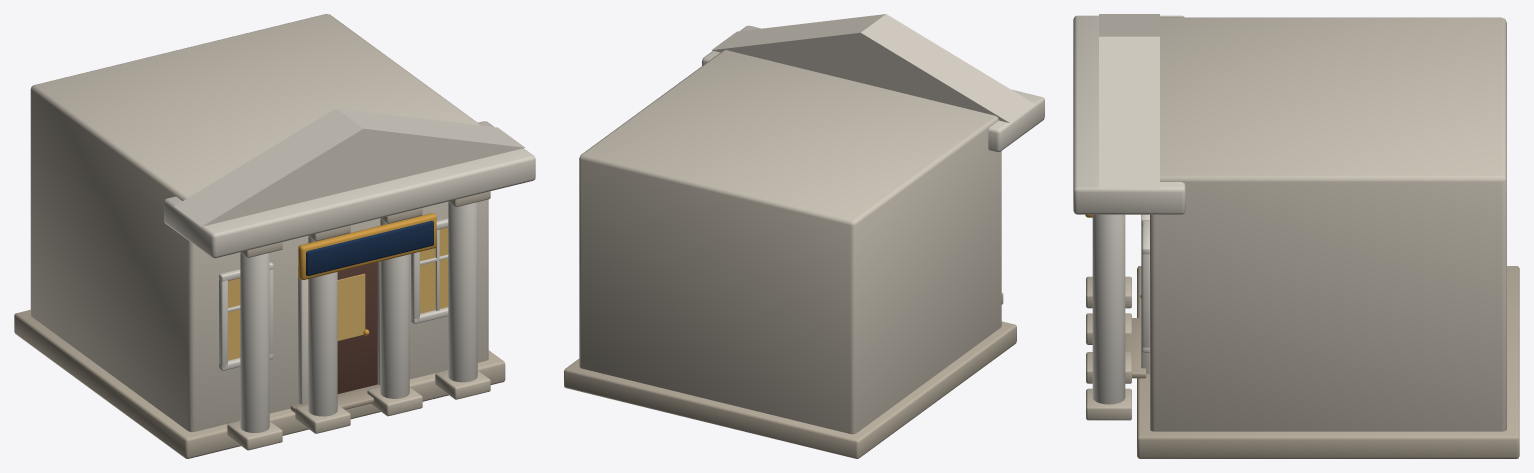
Rendered from bld_bank.glb.
3 renders of one model, left to right at view 1: azimuth 30°, elevation 25°; view 2: azimuth 150°, elevation 25°; view 3: azimuth 270°, elevation 25°, orthographic. The views are drawn at different scales.
Visible parts, largest first — view 1: bld_bank, Glass_bld_bank; view 2: bld_bank; view 3: bld_bank.
Part boxes in pixels (x1=…): bld_bank: x1=14, y1=14, x2=535, y2=458; Glass_bld_bank: x1=228, y1=227, x2=448, y2=360; bld_bank: x1=564, y1=14, x2=1044, y2=458; bld_bank: x1=1073, y1=14, x2=1519, y2=458.
Size of the model in its own units: 8.1 by 7.3 by 8.75.
